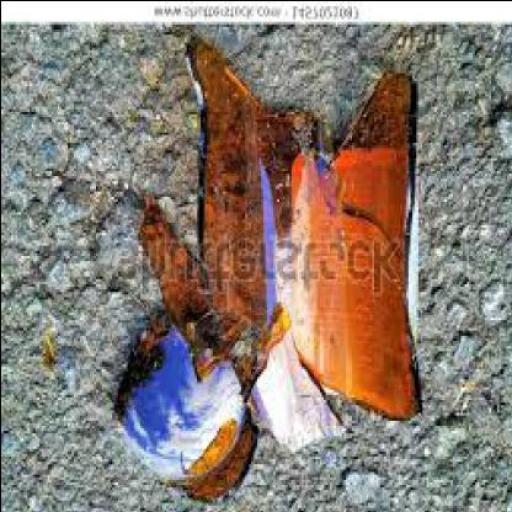glass: (181, 41, 420, 422), (134, 203, 288, 404), (112, 306, 258, 504), (38, 332, 54, 374)
